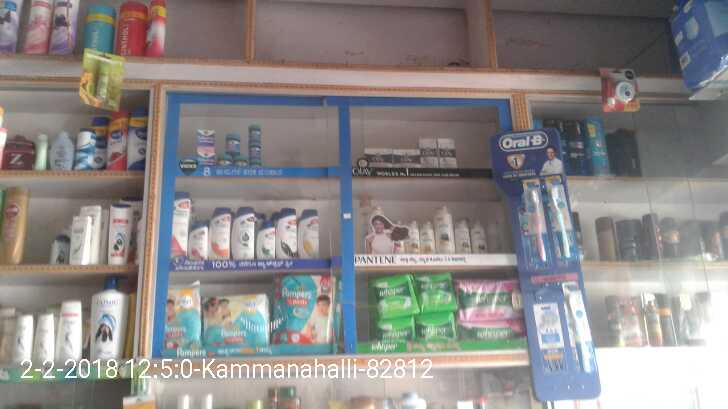beauty: (230, 205, 256, 259), (276, 204, 300, 259), (432, 204, 455, 255), (298, 207, 321, 256), (210, 205, 230, 259), (186, 217, 209, 260), (256, 220, 277, 257), (416, 136, 438, 169), (468, 218, 487, 255), (453, 218, 472, 255), (436, 135, 457, 168), (391, 147, 423, 168), (361, 147, 393, 168), (418, 221, 436, 255)
pharmacy: (269, 272, 335, 344), (200, 292, 269, 344), (454, 276, 521, 321), (366, 276, 416, 318), (414, 271, 456, 311), (415, 315, 458, 342), (374, 317, 415, 342), (247, 123, 262, 165), (223, 133, 242, 157)
